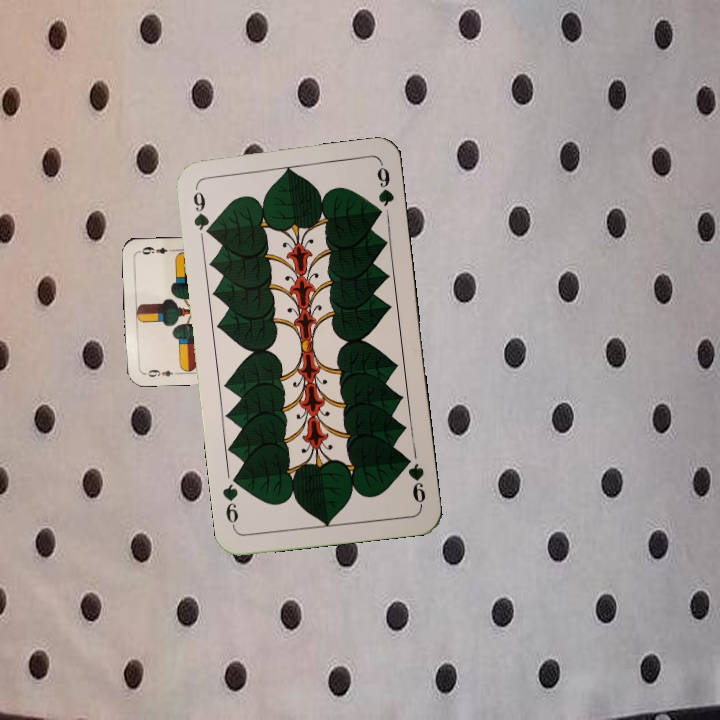E9: (140, 366, 181, 380)
G9: (400, 451, 428, 509), (189, 183, 214, 239)
